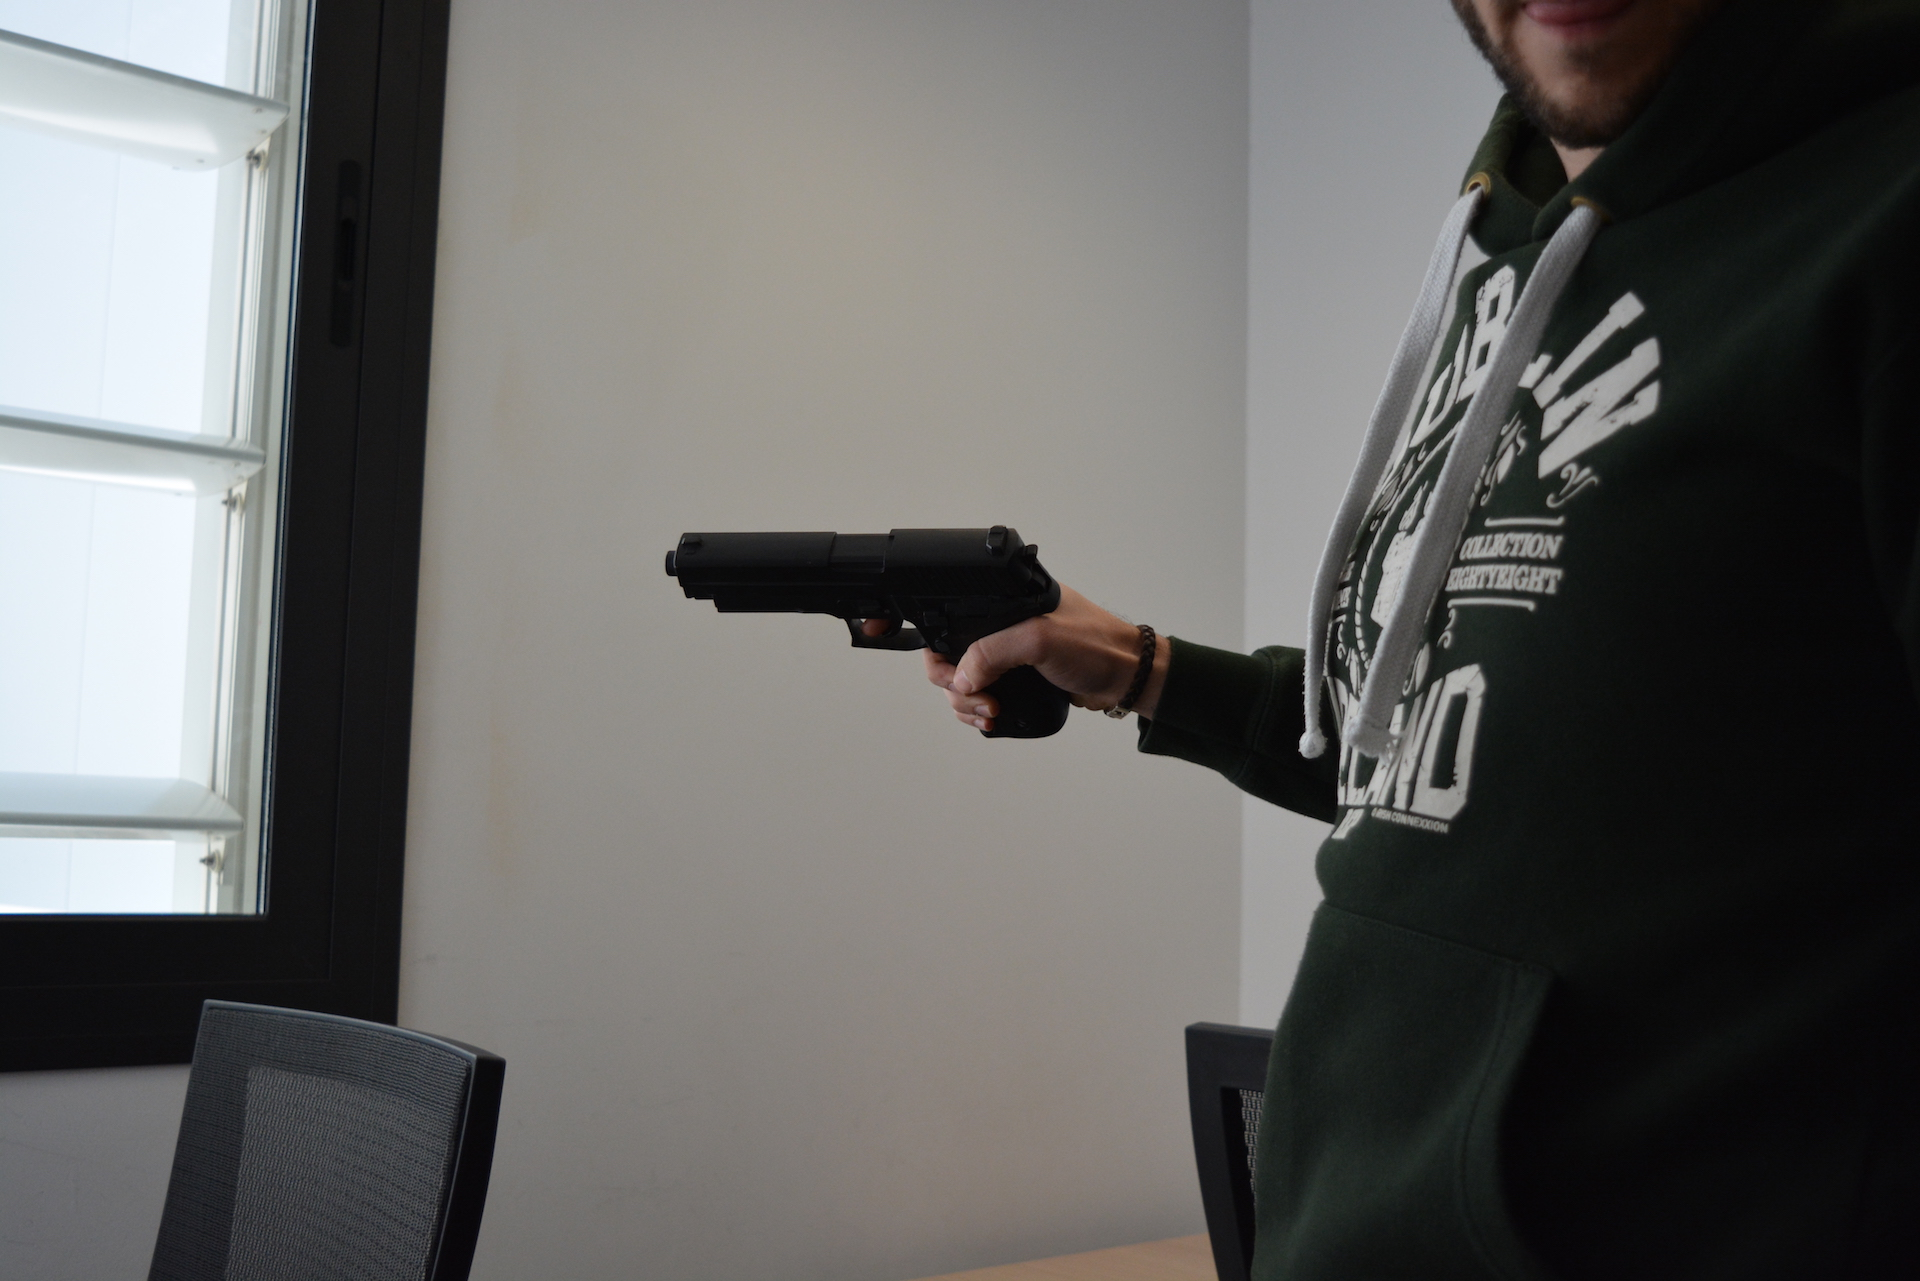pistol: (662, 522, 1074, 743)
